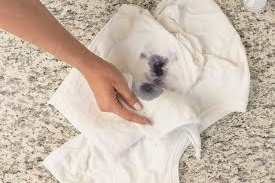ink: (140, 82, 163, 99), (149, 57, 167, 77)
